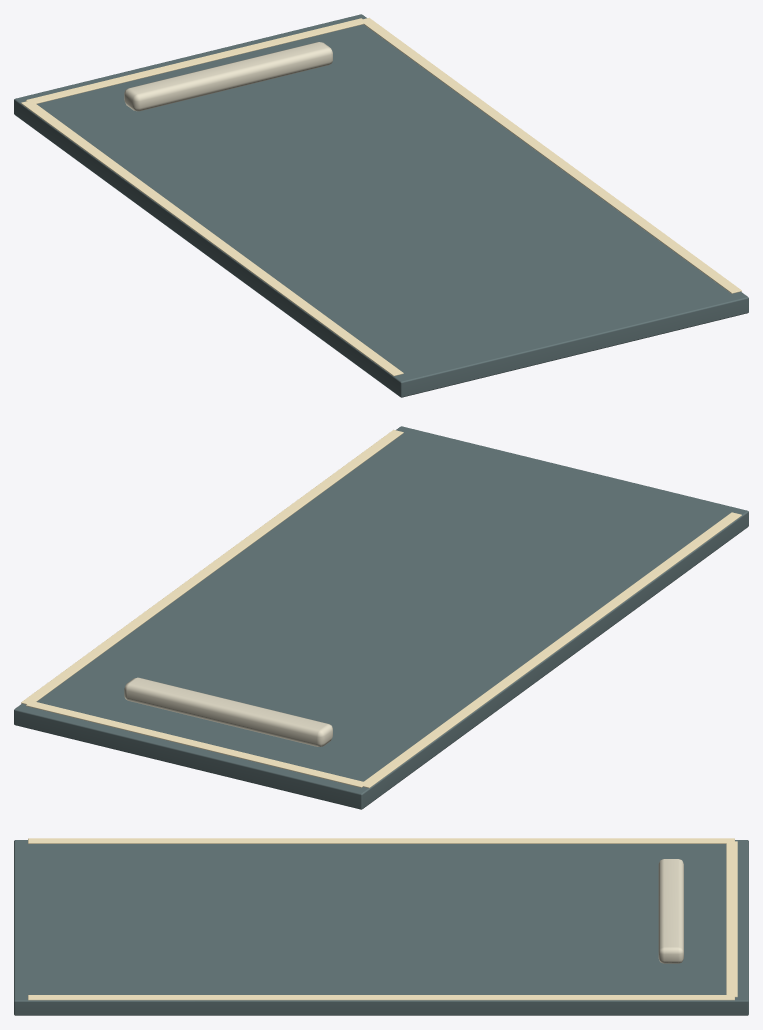
Rendered from parking-bay.glb.
The picture shows the model from 3 angles, top to bottom: view 1: azimuth 30°, elevation 25°; view 2: azimuth 150°, elevation 25°; view 3: azimuth 270°, elevation 25°; orthographic projection. The views are drawn at different scales.
Parts seen in each view (by area): view 1: Parking surface, Wheel stop, Bay stripe, Bay stripe.001, Stop line; view 2: Parking surface, Wheel stop, Bay stripe, Bay stripe.001, Stop line; view 3: Parking surface, Bay stripe.001, Bay stripe, Wheel stop, Stop line.
Boxes of the visible parts, left/top/right/bottom form: Parking surface: left=14, top=14, right=748, bottom=397; Wheel stop: left=124, top=42, right=332, bottom=111; Bay stripe: left=21, top=100, right=403, bottom=376; Bay stripe.001: left=361, top=17, right=741, bottom=293; Stop line: left=26, top=18, right=365, bottom=103; Parking surface: left=14, top=426, right=748, bottom=809; Wheel stop: left=124, top=677, right=332, bottom=746; Bay stripe: left=360, top=512, right=741, bottom=788; Bay stripe.001: left=21, top=429, right=403, bottom=704; Stop line: left=26, top=701, right=363, bottom=787; Parking surface: left=14, top=840, right=748, bottom=1015; Bay stripe.001: left=28, top=995, right=734, bottom=1000; Bay stripe: left=28, top=838, right=734, bottom=843; Wheel stop: left=658, top=859, right=683, bottom=963; Stop line: left=726, top=841, right=737, bottom=997.
Bounding box in the file's own units: 2.7 × 0.254 × 5.2.
